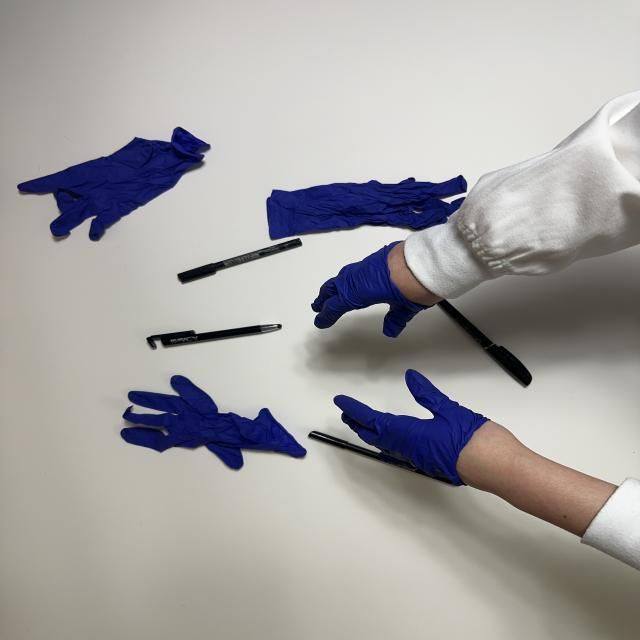glove_not_fitted: (330, 365, 516, 488), (310, 237, 442, 338)
